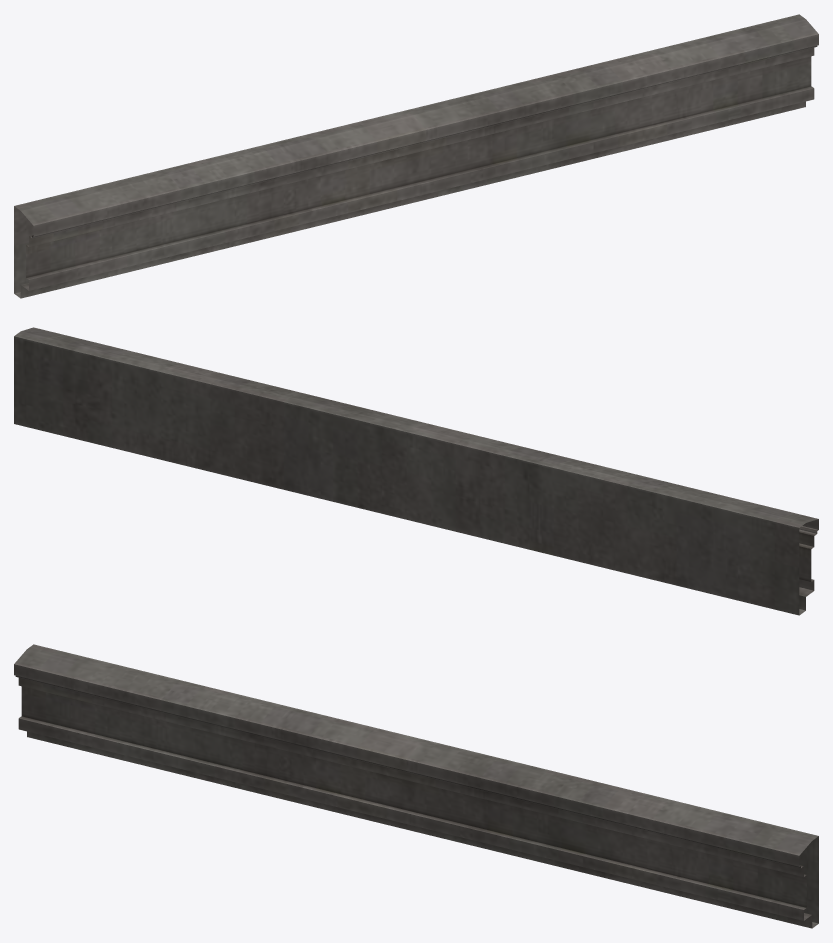
The model's file is FactoryCornice.glb.
3 renders of one model, top to bottom at view 1: azimuth 30°, elevation 25°; view 2: azimuth 150°, elevation 25°; view 3: azimuth 330°, elevation 25°, orthographic.
Visible parts, largest first — view 1: crown_standard_standard_01; view 2: crown_standard_standard_01; view 3: crown_standard_standard_01.
Part boxes in pixels (x1=…): crown_standard_standard_01: x1=14, y1=14, x2=818, y2=298; crown_standard_standard_01: x1=14, y1=327, x2=818, y2=615; crown_standard_standard_01: x1=14, y1=644, x2=818, y2=928.
Size of the model in its own units: 3 by 0.32 by 0.13.
1 material, 1 textured.
